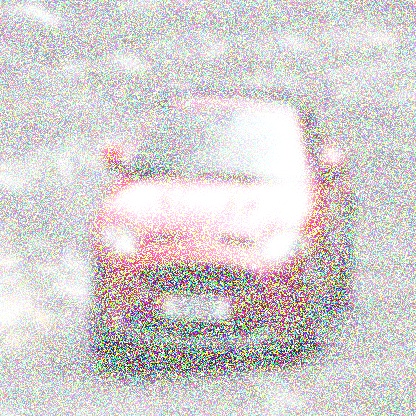Vehicle: (89, 70, 359, 369)
